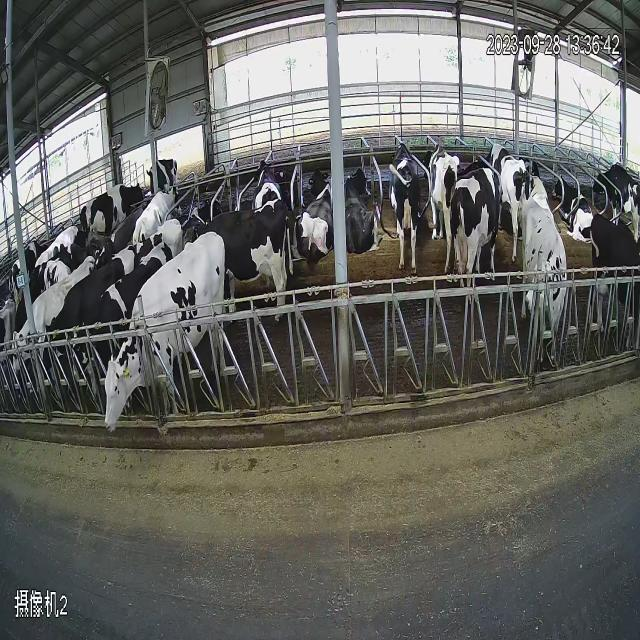drinking: (74, 178, 148, 242), (138, 150, 194, 212)
lying down: (296, 144, 386, 272), (551, 154, 597, 241)
standing: (100, 228, 236, 437), (585, 210, 640, 346), (390, 114, 428, 282)
